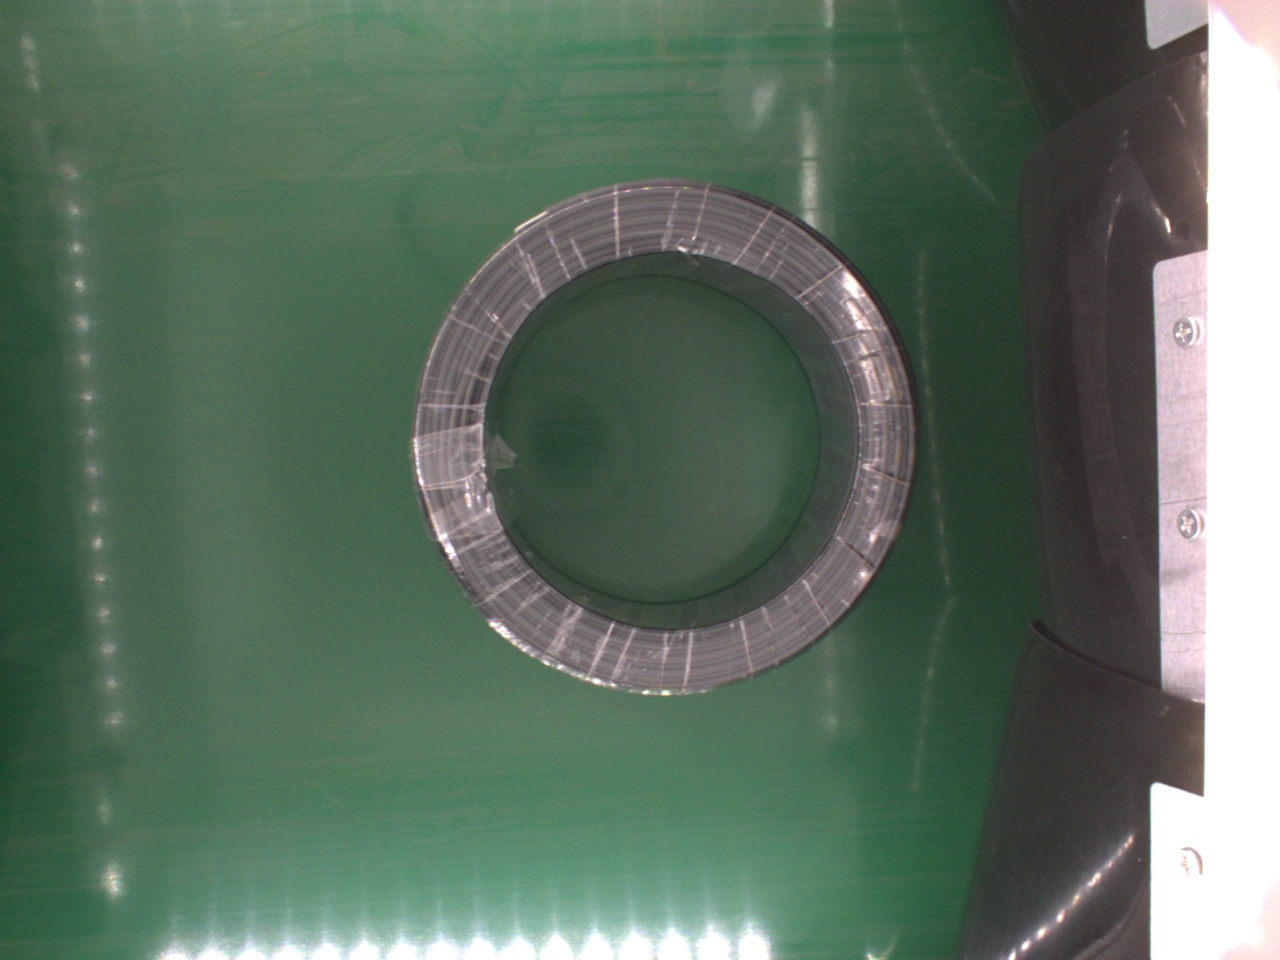black: (407, 179, 916, 691)
